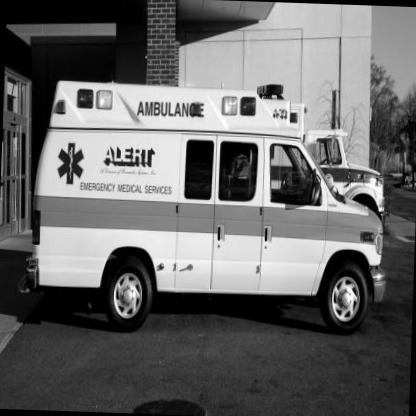ambulance: (34, 62, 399, 381)
